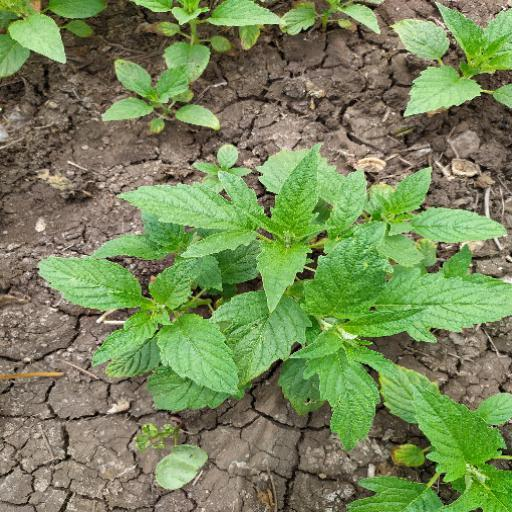crop: (56, 155, 512, 422), (63, 2, 512, 129)
